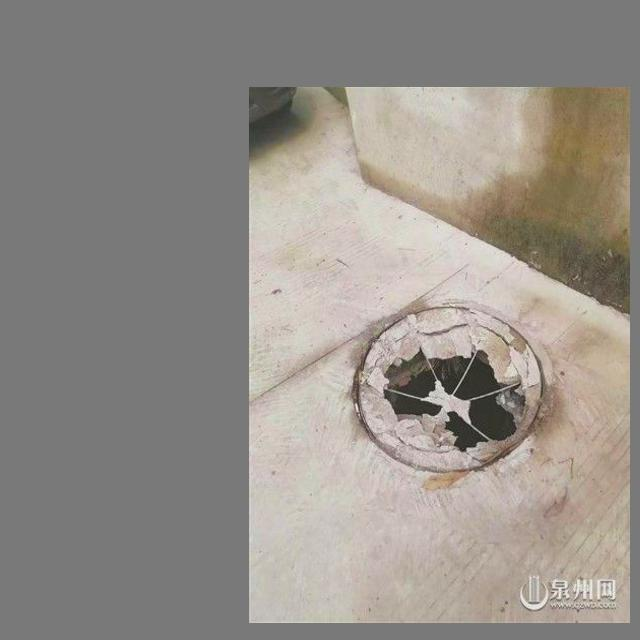broke: (339, 287, 565, 489)
